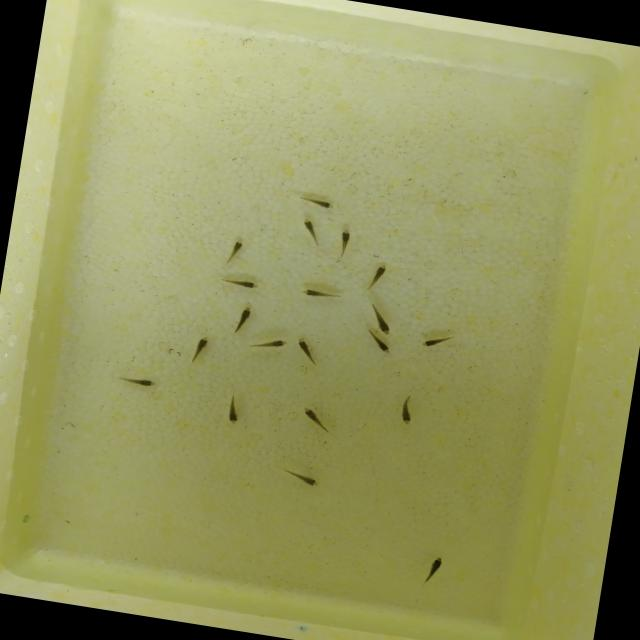fingerling: (414, 552, 451, 592), (274, 462, 325, 490), (295, 404, 336, 436), (359, 258, 391, 298), (183, 331, 216, 369), (366, 301, 400, 337), (394, 387, 422, 429), (416, 328, 460, 353), (220, 387, 247, 427), (228, 303, 257, 339), (291, 335, 322, 367), (214, 274, 262, 294), (292, 192, 338, 212), (333, 226, 358, 262), (222, 236, 248, 270), (114, 372, 160, 391), (298, 217, 324, 250), (298, 286, 344, 304), (256, 336, 289, 354), (368, 336, 395, 357)
